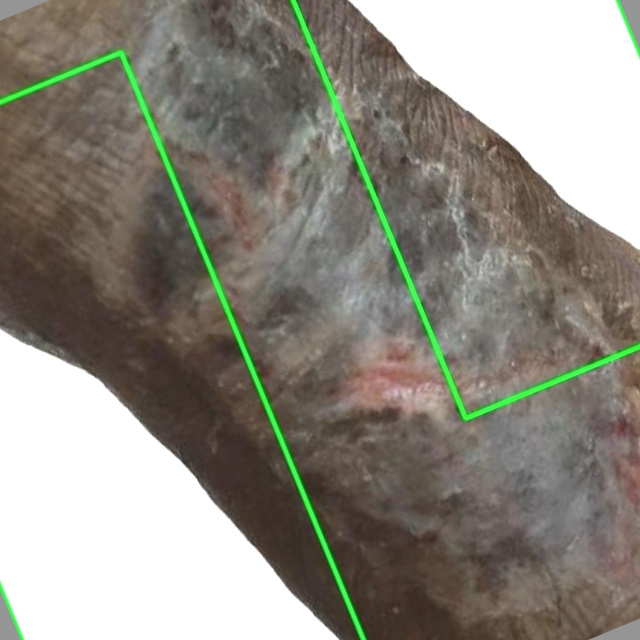Eczema: (0, 52, 363, 639), (293, 0, 639, 418)
